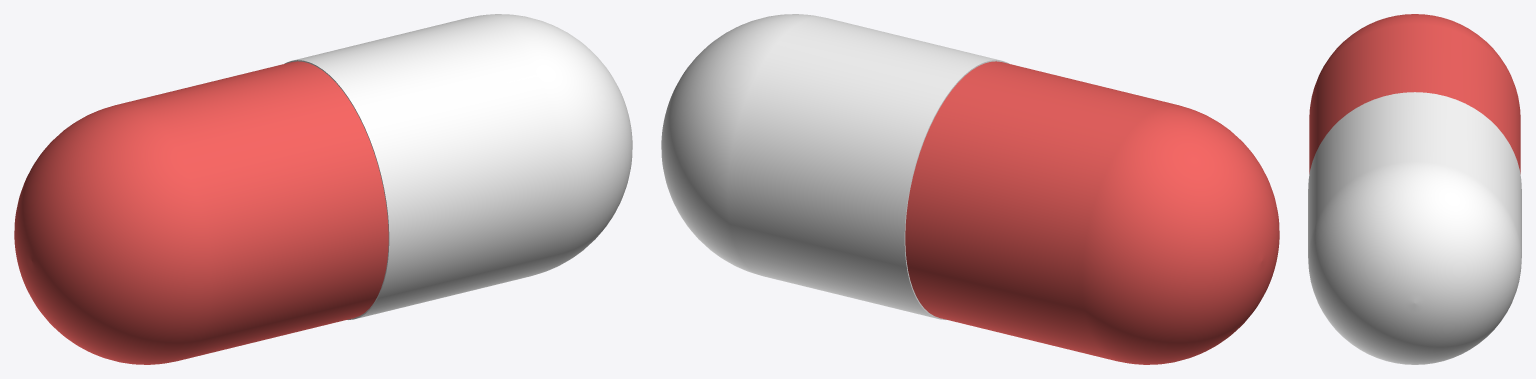
File: pill-capsule.glb
The picture shows the model from 3 angles, left to right: view 1: azimuth 30°, elevation 25°; view 2: azimuth 150°, elevation 25°; view 3: azimuth 270°, elevation 25°; orthographic projection. The views are drawn at different scales.
Parts seen in each view (by area): view 1: bottom, top; view 2: bottom, top; view 3: top, bottom.
Part boxes in pixels (bbox=[...]): bottom: bbox=[14, 61, 388, 364]; top: bbox=[284, 14, 632, 319]; bottom: bbox=[905, 61, 1279, 364]; top: bbox=[661, 14, 1009, 319]; top: bbox=[1308, 92, 1521, 364]; bottom: bbox=[1309, 14, 1520, 173].
Size of the model in its own units: 1.02 by 0.404 by 0.404.
